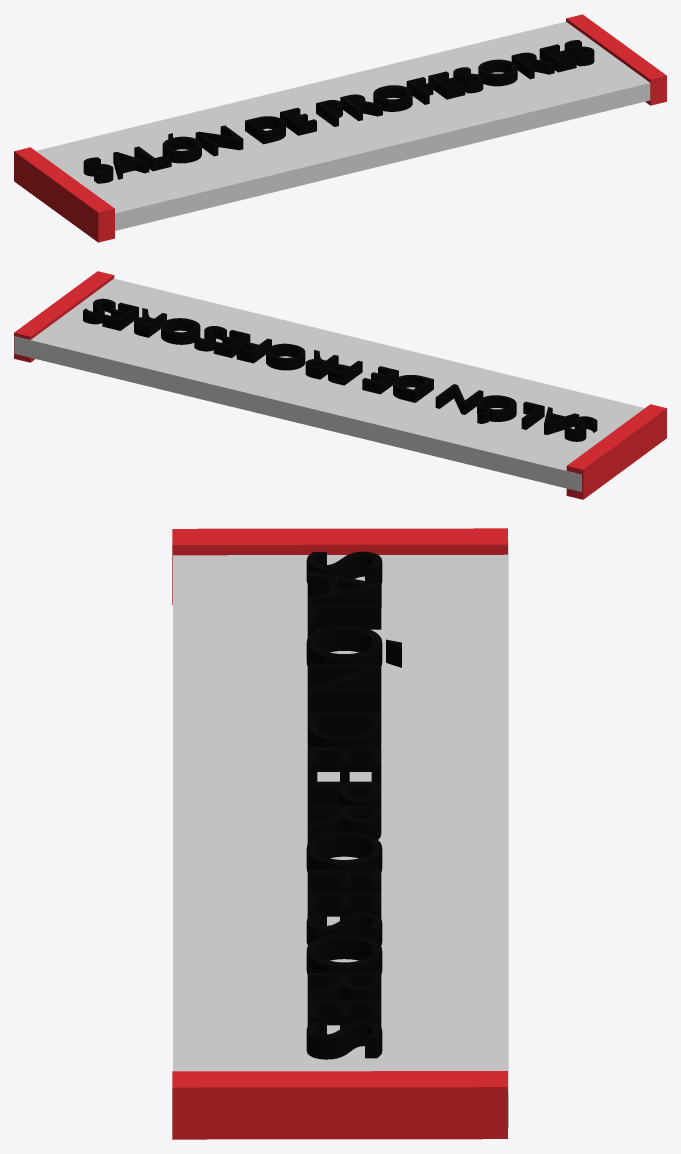
The model's file is SalaProfesoreEm22.fbx.
3 views of the same model, one above another, from view 1: azimuth 30°, elevation 25°; view 2: azimuth 150°, elevation 25°; view 3: azimuth 270°, elevation 25° (orthographic). The views are drawn at different scales.
Visible parts, largest first — view 1: Cube, Texto.001, Cubo, Cubo.001; view 2: Cube, Texto.001, Cubo, Cubo.001; view 3: Cube, Texto.001, Cubo.001, Cubo.
Boxes of the visible parts, x1=… form: Cube: x1=36, y1=21, x2=650, y2=230; Texto.001: x1=83, y1=40, x2=594, y2=183; Cubo: x1=14, y1=147, x2=114, y2=242; Cubo.001: x1=566, y1=14, x2=666, y2=105; Cube: x1=14, y1=278, x2=644, y2=491; Texto.001: x1=83, y1=298, x2=597, y2=441; Cubo: x1=566, y1=404, x2=666, y2=499; Cubo.001: x1=14, y1=271, x2=114, y2=362; Cube: x1=173, y1=540, x2=508, y2=1128; Texto.001: x1=306, y1=551, x2=401, y2=1059; Cubo.001: x1=172, y1=1071, x2=507, y2=1139; Cubo: x1=172, y1=528, x2=507, y2=604.
Size of the model in its own units: 783 by 46.46 by 200.
